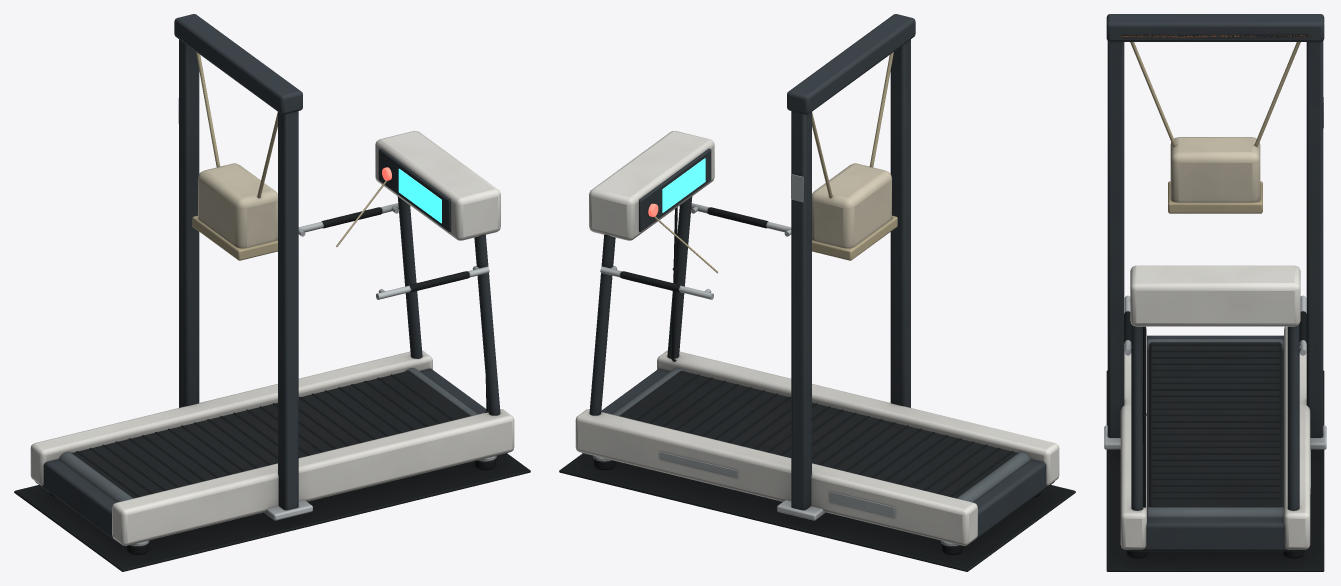
File: treadmill.glb
The picture shows the model from 3 angles, left to right: view 1: azimuth 30°, elevation 25°; view 2: azimuth 150°, elevation 25°; view 3: azimuth 270°, elevation 25°; orthographic projection.
Parts seen in each view (by area): view 1: belt_bed_belt_rubber, side_cover_right_shell_white, floor_mat_black_rubber, gantry_post_r_frame_graphite, side_cover_left_shell_white, gantry_post_l_frame_graphite, console_body_shell_white, Harness_vest_nomex_fabric, gantry_beam_frame_graphite, deck_frame_frame_graphite, Belt_Slats_deep_graphite, mast_r_frame_graphite (+6 smaller); view 2: belt_bed_belt_rubber, side_cover_left_shell_white, floor_mat_black_rubber, gantry_post_l_frame_graphite, side_cover_right_shell_white, gantry_post_r_frame_graphite, console_body_shell_white, Harness_vest_nomex_fabric, gantry_beam_frame_graphite, deck_frame_frame_graphite, Belt_Slats_deep_graphite, mast_l_frame_graphite (+8 smaller); view 3: belt_bed_belt_rubber, console_body_shell_white, floor_mat_black_rubber, gantry_post_l_frame_graphite, gantry_post_r_frame_graphite, deck_frame_frame_graphite, gantry_beam_frame_graphite, Harness_vest_nomex_fabric, Belt_Slats_deep_graphite, side_cover_left_shell_white, side_cover_right_shell_white, mast_l_frame_graphite (+6 smaller).
Boxes of the visible parts, left/top/right/bottom form: belt_bed_belt_rubber: left=72, top=371, right=470, bottom=498; side_cover_right_shell_white: left=112, top=409, right=514, bottom=545; floor_mat_black_rubber: left=14, top=453, right=530, bottom=571; gantry_post_r_frame_graphite: left=278, top=111, right=298, bottom=510; side_cover_left_shell_white: left=30, top=350, right=432, bottom=485; gantry_post_l_frame_graphite: left=179, top=39, right=199, bottom=407; console_body_shell_white: left=375, top=131, right=500, bottom=240; Harness_vest_nomex_fabric: left=198, top=163, right=277, bottom=248; gantry_beam_frame_graphite: left=174, top=14, right=302, bottom=114; deck_frame_frame_graphite: left=35, top=368, right=507, bottom=546; Belt_Slats_deep_graphite: left=76, top=374, right=453, bottom=496; mast_r_frame_graphite: left=474, top=234, right=500, bottom=415; belt_bed_belt_rubber: left=619, top=371, right=1017, bottom=498; side_cover_left_shell_white: left=575, top=409, right=977, bottom=545; floor_mat_black_rubber: left=559, top=453, right=1075, bottom=571; gantry_post_l_frame_graphite: left=791, top=111, right=811, bottom=510; side_cover_right_shell_white: left=657, top=350, right=1059, bottom=485; gantry_post_r_frame_graphite: left=890, top=39, right=910, bottom=407; console_body_shell_white: left=589, top=131, right=714, bottom=240; Harness_vest_nomex_fabric: left=812, top=163, right=891, bottom=248; gantry_beam_frame_graphite: left=787, top=14, right=915, bottom=114; deck_frame_frame_graphite: left=582, top=368, right=1054, bottom=546; Belt_Slats_deep_graphite: left=636, top=374, right=1013, bottom=496; mast_l_frame_graphite: left=589, top=234, right=615, bottom=415; belt_bed_belt_rubber: left=1149, top=342, right=1281, bottom=507; console_body_shell_white: left=1130, top=265, right=1300, bottom=326; floor_mat_black_rubber: left=1106, top=370, right=1324, bottom=571; gantry_post_l_frame_graphite: left=1306, top=41, right=1323, bottom=437; gantry_post_r_frame_graphite: left=1107, top=41, right=1124, bottom=437; deck_frame_frame_graphite: left=1126, top=335, right=1304, bottom=551; gantry_beam_frame_graphite: left=1106, top=14, right=1324, bottom=41; Harness_vest_nomex_fabric: left=1170, top=137, right=1260, bottom=202; Belt_Slats_deep_graphite: left=1150, top=344, right=1280, bottom=499; side_cover_left_shell_white: left=1284, top=326, right=1310, bottom=549; side_cover_right_shell_white: left=1120, top=327, right=1146, bottom=549; mast_l_frame_graphite: left=1287, top=324, right=1299, bottom=510.
Bounding box in the file's own units: 2 × 2.04 × 0.94.
Materials: 4 (1 with a texture image).
